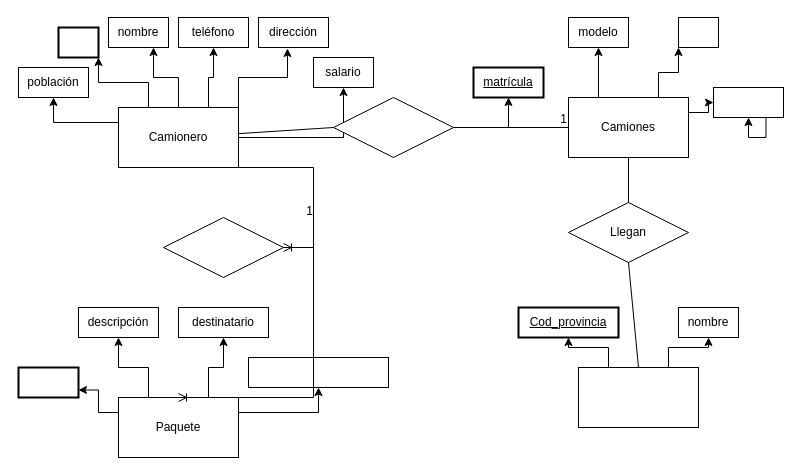
The diagram is 801 pixels wide and 475 high, and some of its shapes have lost their labels. Here are the shapes that lost their labels. From the top down, the centre of each, then its label:
At (x=78, y=42): "DNI".
At (x=698, y=32): "tipo".
At (x=748, y=102): "potencia".
At (x=393, y=127): "Conducir".
At (x=223, y=247): "Llevar".
At (x=48, y=382): "Código".
At (x=318, y=372): "dirección_destinatario".
At (x=638, y=397): "Provincia".
